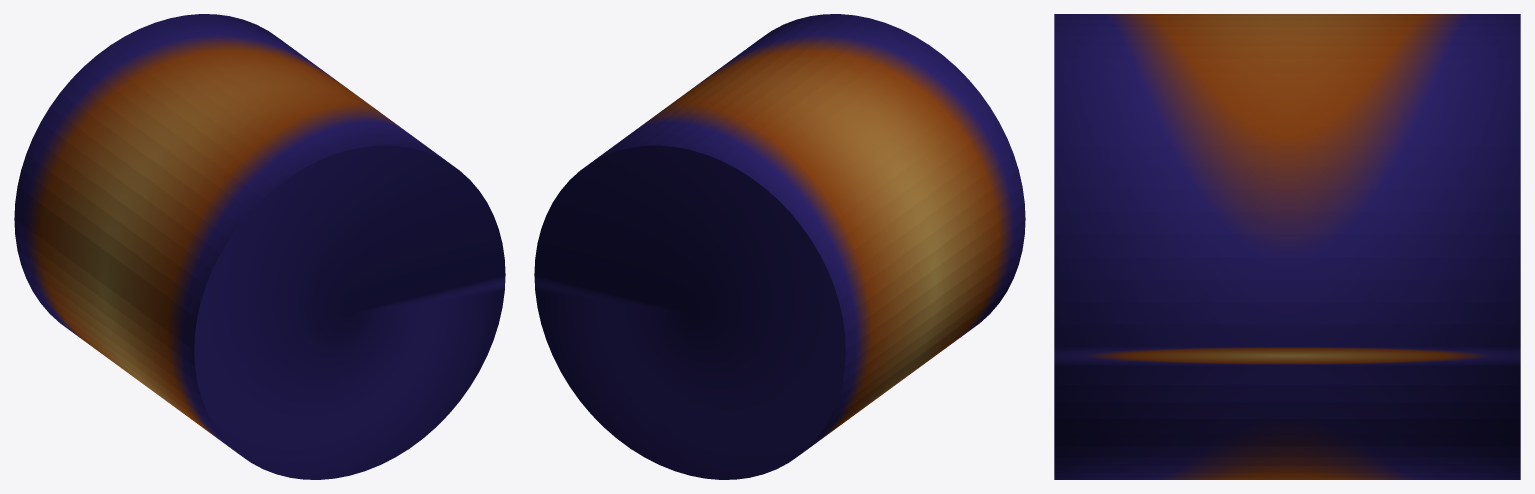
The model's file is cylinder-warm-amber-c2.glb.
3 views of the same model, side by side, from view 1: azimuth 30°, elevation 25°; view 2: azimuth 150°, elevation 25°; view 3: azimuth 270°, elevation 25° (orthographic). The views are drawn at different scales.
Visible parts, largest first — view 1: world; view 2: world; view 3: world.
Boxes of the visible parts, bbox=[...] form: world: bbox=[14, 14, 505, 479]; world: bbox=[534, 14, 1025, 479]; world: bbox=[1054, 14, 1520, 479].
Size of the model in its own units: 1 by 1 by 1.
1 material, 1 textured.
